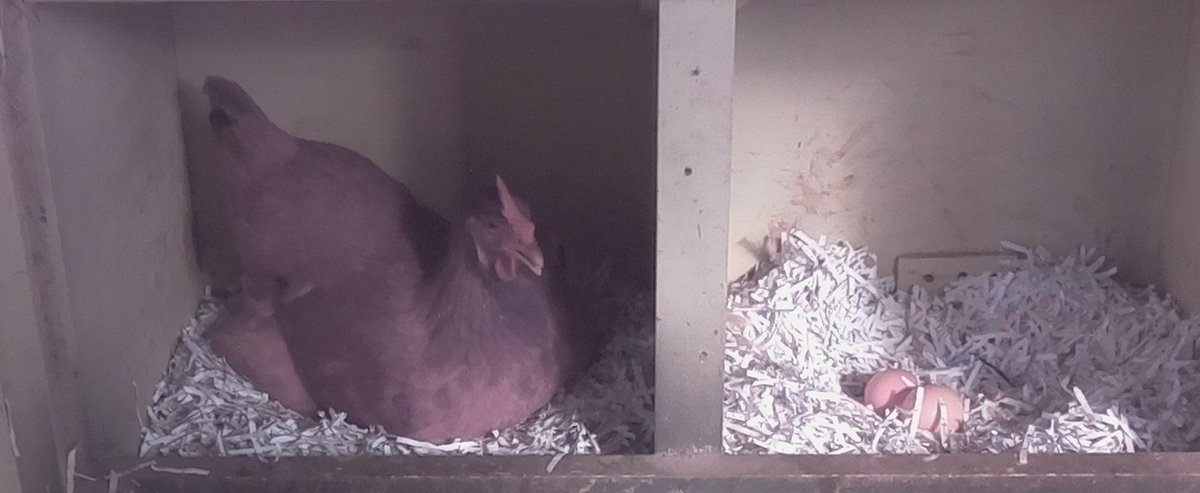egg: (896, 382, 968, 437), (858, 366, 924, 412)
hen: (195, 86, 604, 440)
